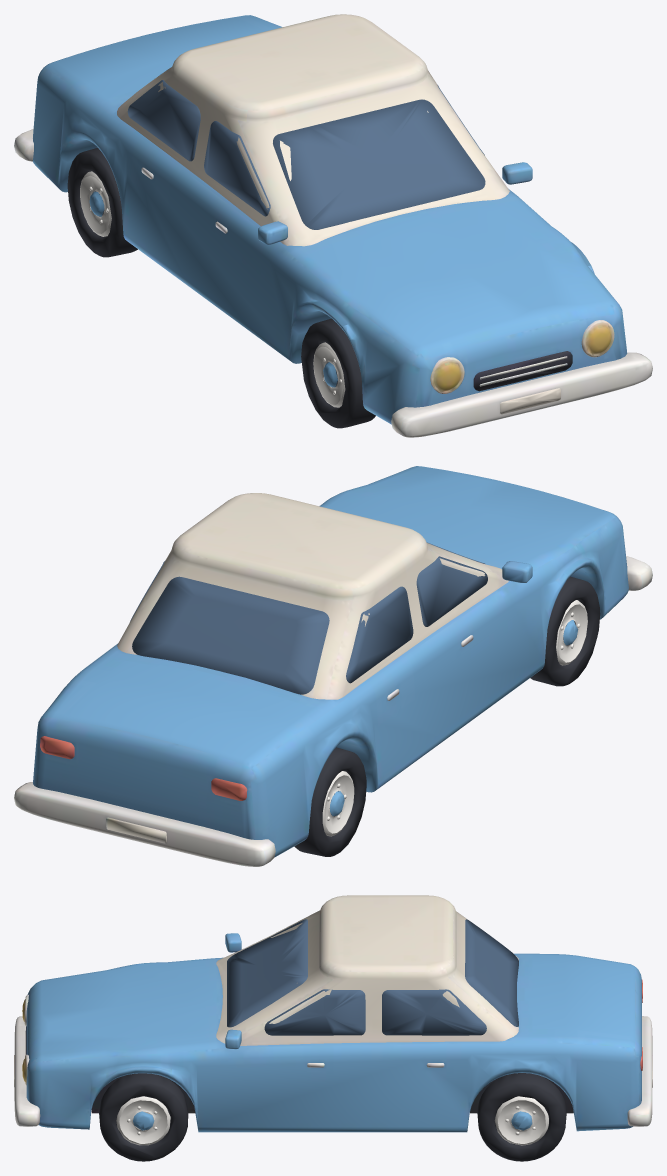
Rendered from sedan.glb.
The picture shows the model from 3 angles, top to bottom: view 1: azimuth 30°, elevation 25°; view 2: azimuth 150°, elevation 25°; view 3: azimuth 270°, elevation 25°; orthographic projection. The views are drawn at different scales.
Parts seen in each view (by area): view 1: sedan_body, sedan_windows, sedan_wheel_fl; view 2: sedan_body, sedan_windows, sedan_wheel_fl; view 3: sedan_body, sedan_windows, sedan_wheel_fl.
Part boxes in pixels (x1=…): sedan_body: x1=14, y1=14, x2=652, y2=437; sedan_windows: x1=127, y1=69, x2=485, y2=229; sedan_wheel_fl: x1=67, y1=147, x2=375, y2=428; sedan_body: x1=14, y1=466, x2=652, y2=866; sedan_windows: x1=130, y1=542, x2=487, y2=694; sedan_wheel_fl: x1=294, y1=576, x2=600, y2=856; sedan_body: x1=14, y1=895, x2=652, y2=1132; sedan_windows: x1=227, y1=919, x2=518, y2=1035; sedan_wheel_fl: x1=99, y1=1073, x2=566, y2=1161.
Size of the model in its own units: 1.85 by 1.49 by 4.7.
5 materials, 1 textured.
